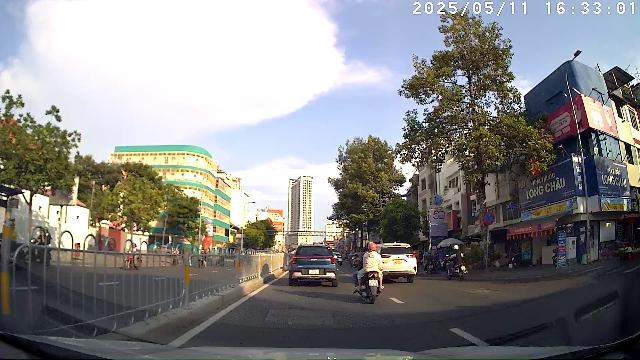130-cam-dung-va-do-xe: (484, 211, 494, 225)
